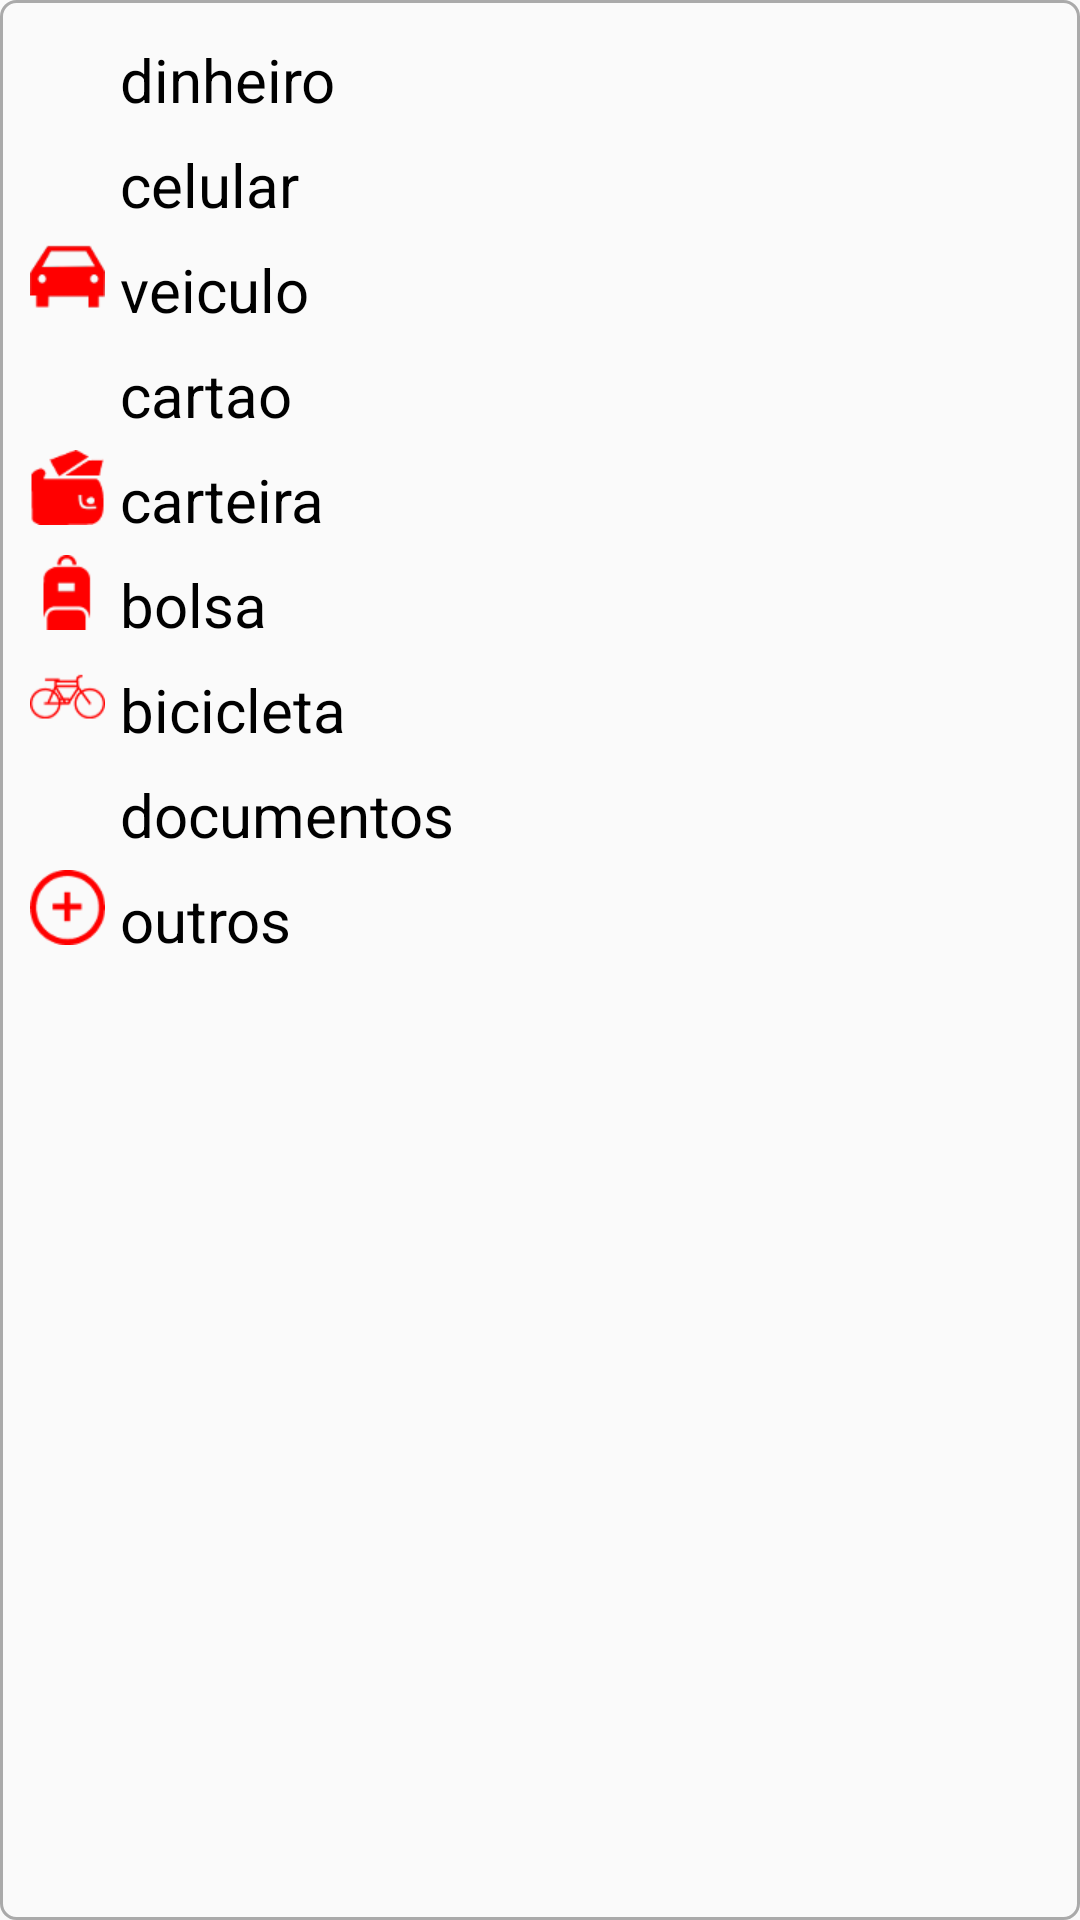

Icon bounding boxes for this 1080×1920 phone screenshot, format [left=x1, top=y1, right=x2, bottom=y2]:
mochila: [left=43, top=555, right=91, bottom=630]
plus: [left=30, top=870, right=105, bottom=945]
